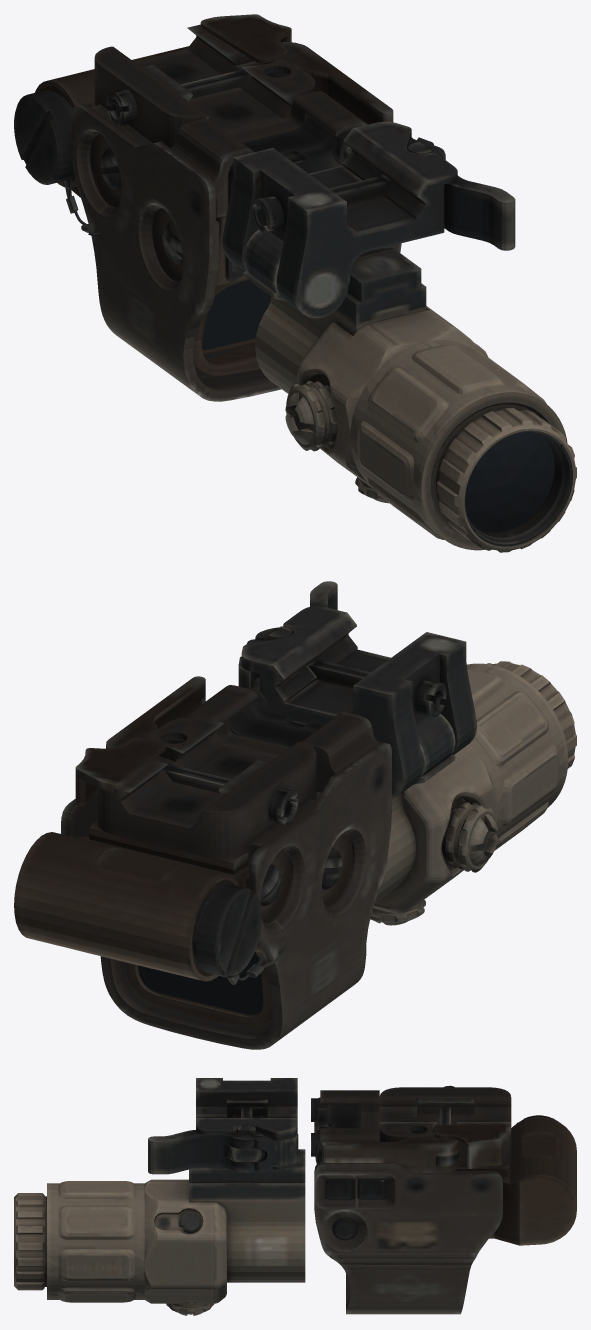
3 views of the same model, one above another, from view 1: azimuth 30°, elevation 25°; view 2: azimuth 150°, elevation 25°; view 3: azimuth 270°, elevation 25° (orthographic). The views are drawn at different scales.
Parts seen in each view (by area): view 1: TW_5c0a2cec0db834001b7ce47d_PZ_Import; view 2: TW_5c0a2cec0db834001b7ce47d_PZ_Import; view 3: TW_5c0a2cec0db834001b7ce47d_PZ_Import.
Boxes of the visible parts, x1=… form: TW_5c0a2cec0db834001b7ce47d_PZ_Import: x1=14, y1=14, x2=576, y2=552; TW_5c0a2cec0db834001b7ce47d_PZ_Import: x1=14, y1=581, x2=576, y2=1049; TW_5c0a2cec0db834001b7ce47d_PZ_Import: x1=14, y1=1078, x2=576, y2=1315.
Bounding box in the file's own units: 0.0322 × 0.1108 × 0.045.
1 material, 1 textured.
